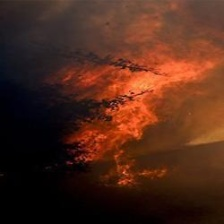fire: (68, 39, 198, 177)
